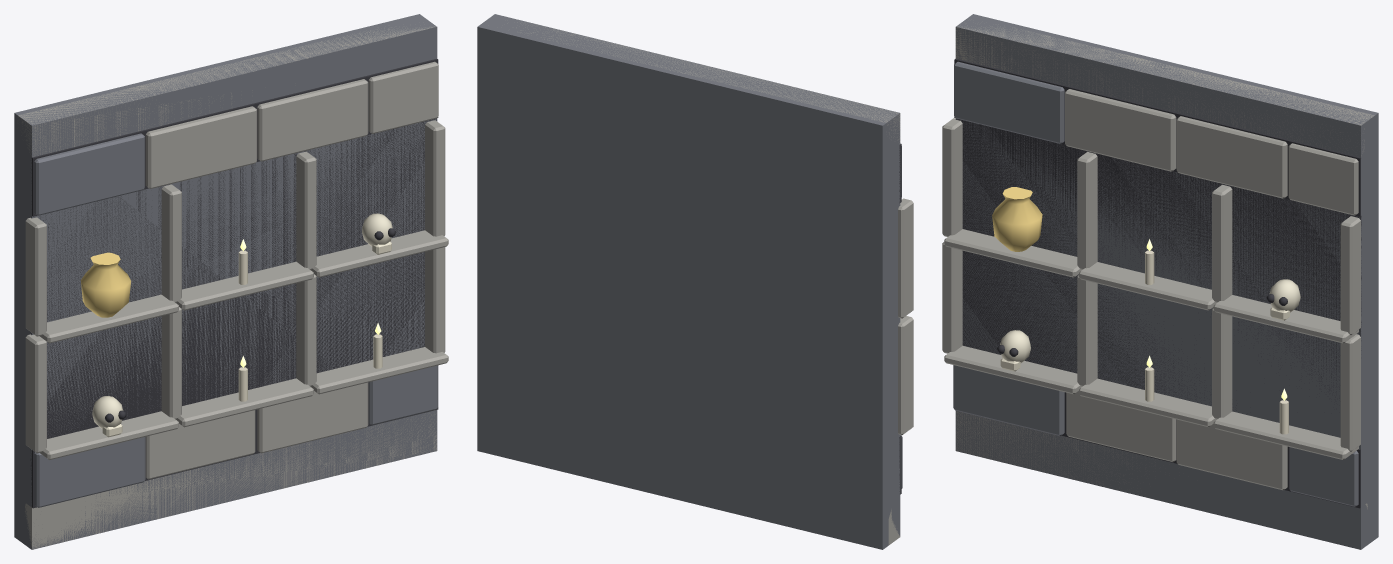
Rendered from wall_cr_niches.glb.
3 views of the same model, side by side, from view 1: azimuth 30°, elevation 25°; view 2: azimuth 150°, elevation 25°; view 3: azimuth 330°, elevation 25° (orthographic).
Parts seen in each view (by area): view 1: wall_cr_niches; view 2: wall_cr_niches; view 3: wall_cr_niches.
Boxes of the visible parts, x1,y1,x2,y2 form: wall_cr_niches: [14, 14, 448, 549]; wall_cr_niches: [477, 14, 913, 549]; wall_cr_niches: [942, 14, 1378, 549].
Bounding box in the file's own units: 4.05 × 4 × 0.61.
